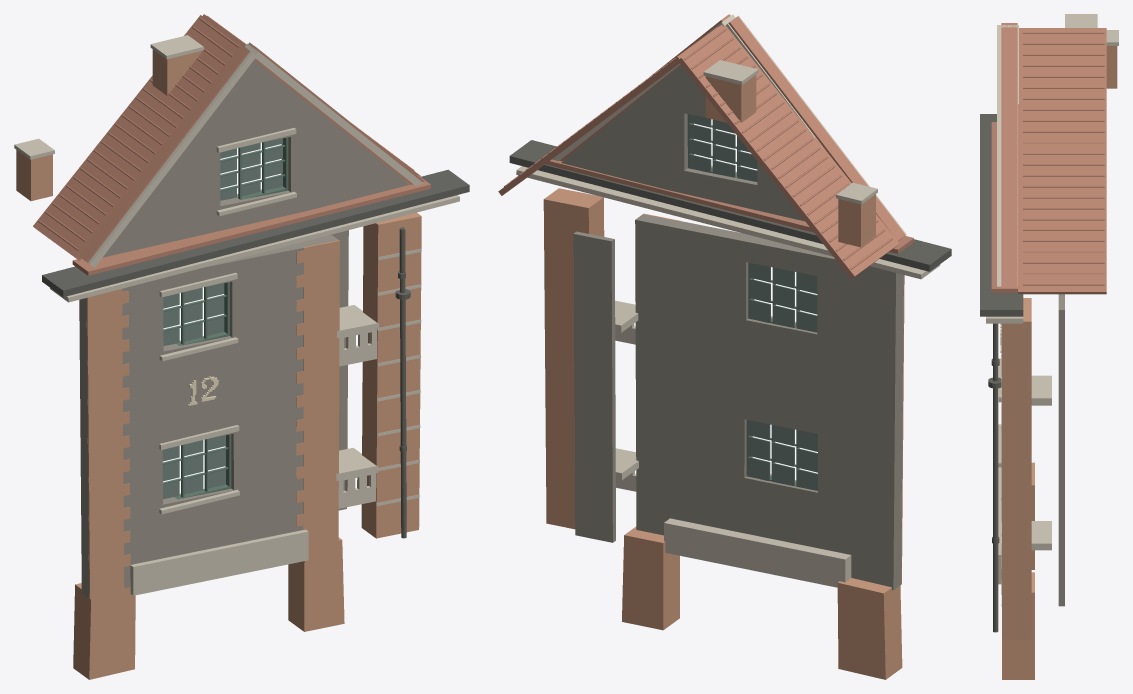
File: full-source.glb
The picture shows the model from 3 angles, left to right: view 1: azimuth 30°, elevation 25°; view 2: azimuth 150°, elevation 25°; view 3: azimuth 270°, elevation 25°; orthographic projection. The views are drawn at different scales.
Visible parts, largest first — view 1: 新华村12号题号山墙; view 2: 新华村12号题号山墙; view 3: 新华村12号题号山墙.
Boxes of the visible parts, x1,y1,x2,y2 form: 新华村12号题号山墙: (14, 14, 469, 679); 新华村12号题号山墙: (498, 14, 951, 679); 新华村12号题号山墙: (980, 14, 1118, 679).
Size of the model in its own units: 9.07 by 12.73 by 2.63.
